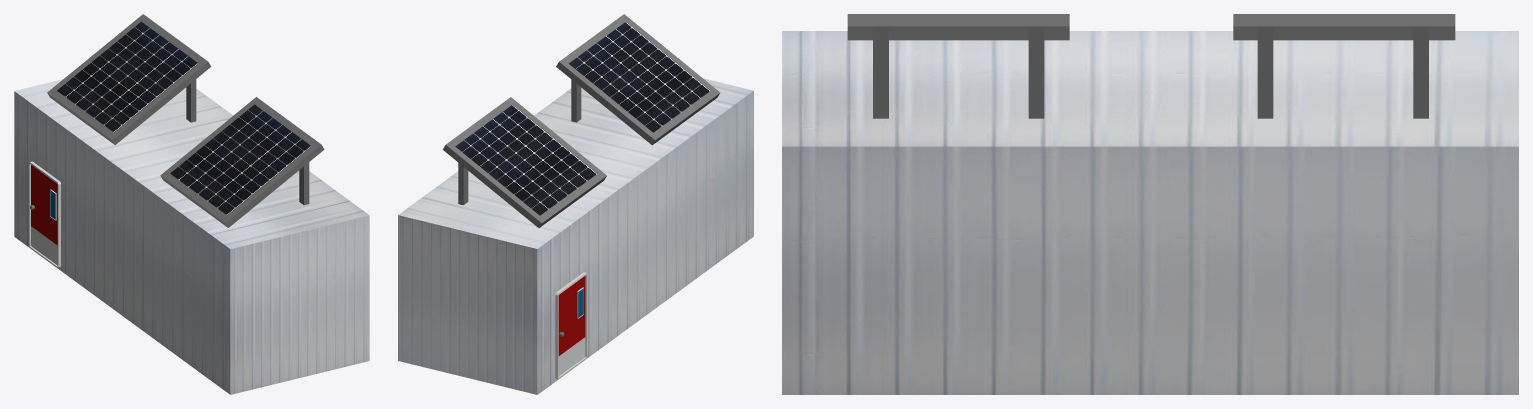
File: Container_House_2.fbx
3 views of the same model, side by side, from view 1: azimuth 30°, elevation 25°; view 2: azimuth 150°, elevation 25°; view 3: azimuth 270°, elevation 25° (orthographic). The views are drawn at different scales.
Visible parts, largest first — view 1: Cube.034; view 2: Cube.034; view 3: Cube.034.
Part boxes in pixels (x1,y1,x2,y2): Cube.034: (14,14,369,394); Cube.034: (398,14,753,394); Cube.034: (782,14,1518,394).
Bounding box in the file's own units: 445 × 618 × 1156.
